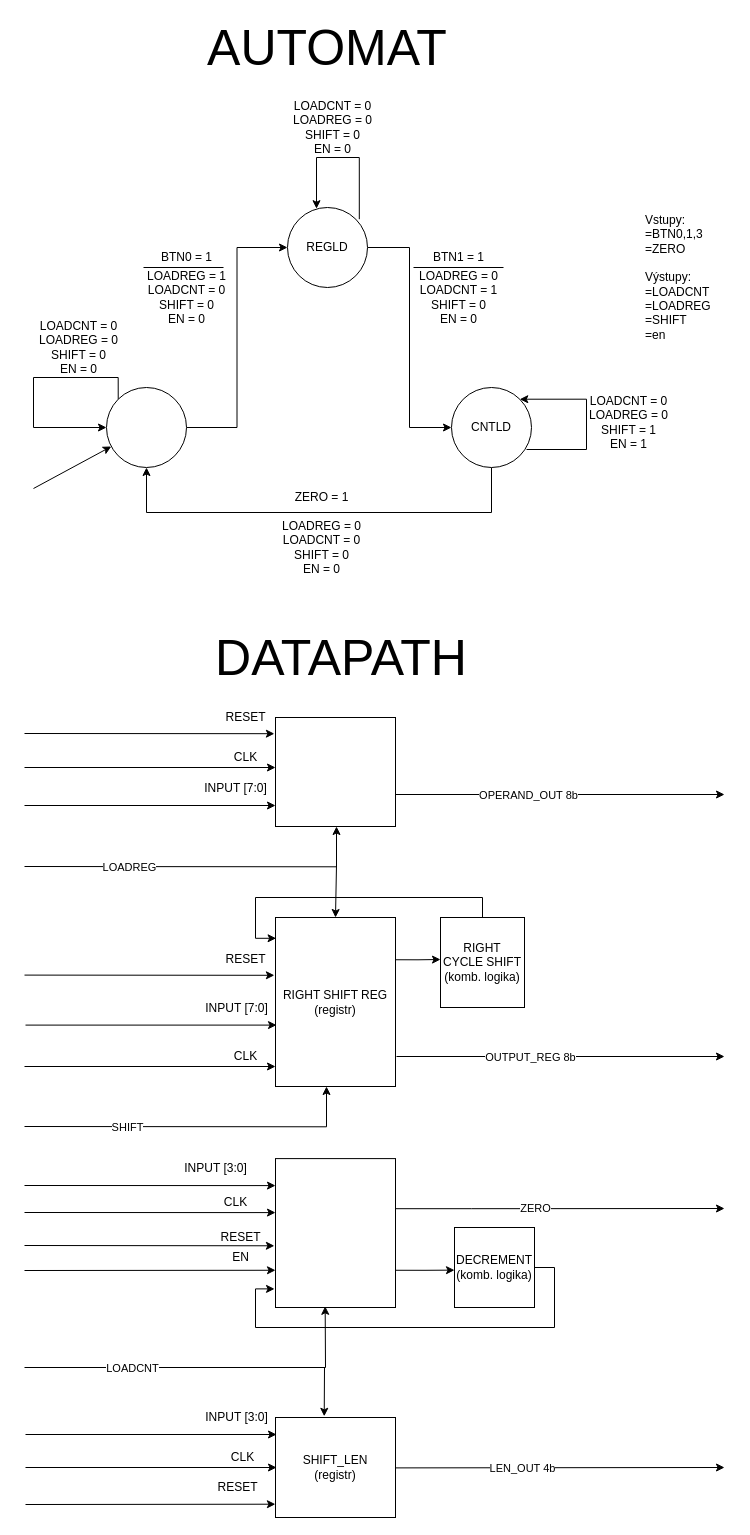
Some shapes in this 750 by 1535 pixel diagram are drawn without their labels. The shapes that lost their labels are listed below. From the top down, each one's centre as x and y in pixels, then its label:
pixel 146 427: START
pixel 335 771: OPERAND (registr)
pixel 335 1233: COUNTER (registr)
